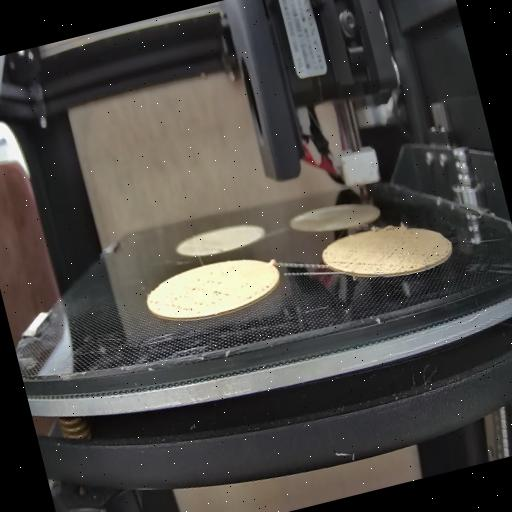under_extrusion: (160, 270, 230, 322), (386, 232, 454, 280), (329, 249, 377, 284), (238, 273, 274, 304)
